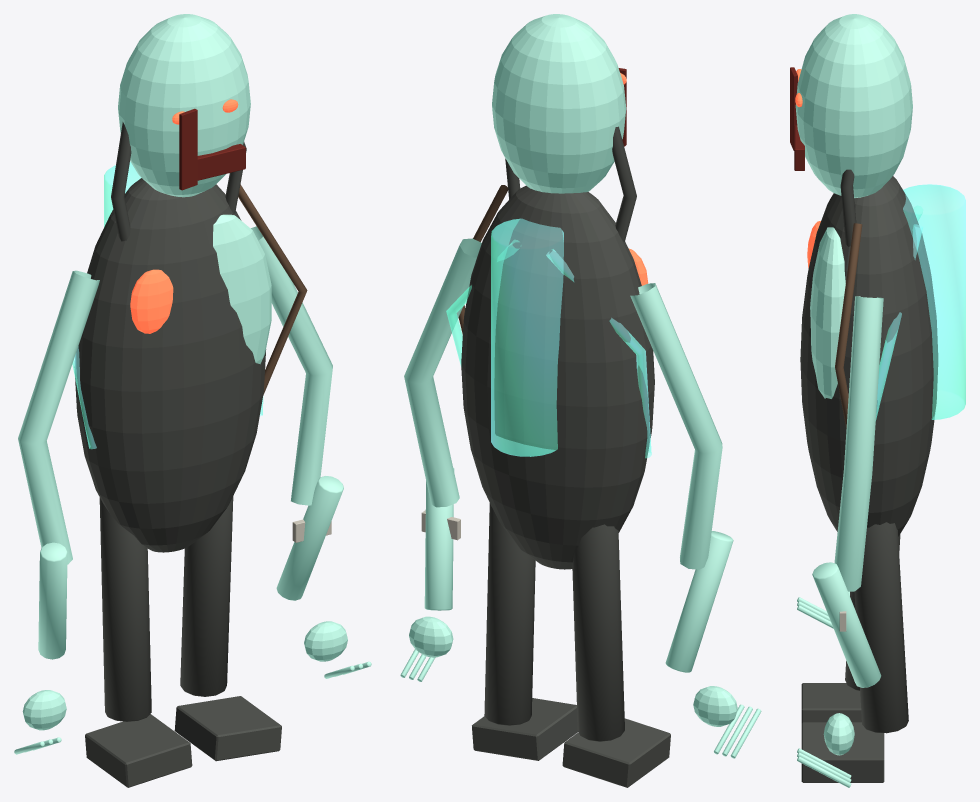
The model's file is dz_enemy_lab_female_B.glb.
3 renders of one model, left to right at view 1: azimuth 30°, elevation 25°; view 2: azimuth 150°, elevation 25°; view 3: azimuth 270°, elevation 25°, orthographic.
Parts seen in each view (by area): view 1: dz_torso_core, dz_head_forward, dz_limb_leg_L, dz_limb_arm_L, dz_limb_leg_R, dz_limb_arm_R, dz_chest_infected_growth, dz_foot_drag_L, dz_foot_drag_R, dz_limb_forearm_R, dz_limb_forearm_L, dz_variant_B_weak_growth (+7 smaller); view 2: dz_torso_core, dz_head_forward, dz_back_lab_tank, dz_limb_leg_L, dz_limb_leg_R, dz_limb_arm_L, dz_limb_arm_R, dz_foot_drag_L, dz_foot_drag_R, dz_limb_forearm_L, dz_limb_forearm_R, dz_lab_tube_left (+5 smaller); view 3: dz_torso_core, dz_head_forward, dz_back_lab_tank, dz_limb_arm_R, dz_limb_leg_R, dz_chest_infected_growth, dz_foot_drag_R, dz_limb_forearm_R, dz_foot_drag_L, dz_variant_B_loose_cable_or_hair, dz_lab_tube_right, dz_hand_claw_R (+4 smaller).
Boxes of the visible parts, x1,y1,x2,y2 form: dz_torso_core: (74,178,266,552); dz_head_forward: (118,14,250,197); dz_limb_leg_L: (99,497,151,721); dz_limb_arm_L: (18,270,99,564); dz_limb_leg_R: (180,496,233,696); dz_limb_arm_R: (251,226,332,505); dz_chest_infected_growth: (213,214,271,364); dz_foot_drag_L: (85,714,192,787); dz_foot_drag_R: (174,696,281,761); dz_limb_forearm_R: (276,476,343,600); dz_limb_forearm_L: (38,542,67,659); dz_variant_B_weak_growth: (130,269,173,333); dz_torso_core: (461,185,654,569); dz_head_forward: (492,14,626,193); dz_back_lab_tank: (491,218,563,456); dz_limb_leg_L: (572,524,624,741); dz_limb_leg_R: (484,503,535,725); dz_limb_arm_L: (630,283,722,569); dz_limb_arm_R: (404,238,481,507); dz_foot_drag_L: (562,718,670,787); dz_foot_drag_R: (472,698,578,760); dz_limb_forearm_L: (665,531,733,672); dz_limb_forearm_R: (424,467,454,610); dz_lab_tube_left: (546,249,651,458); dz_torso_core: (800,176,938,536); dz_head_forward: (795,14,912,198); dz_back_lab_tank: (903,184,965,419); dz_limb_arm_R: (834,296,883,591); dz_limb_leg_R: (854,522,908,733); dz_chest_infected_growth: (810,227,845,398); dz_foot_drag_R: (801,722,884,782); dz_limb_forearm_R: (812,562,881,687); dz_foot_drag_L: (801,683,861,722); dz_variant_B_loose_cable_or_hair: (835,223,862,428); dz_lab_tube_right: (875,224,922,420); dz_hand_claw_R: (823,713,854,755).
Size of what is drawn, in the model's own units: 1.01 by 2.14 by 0.4668.
